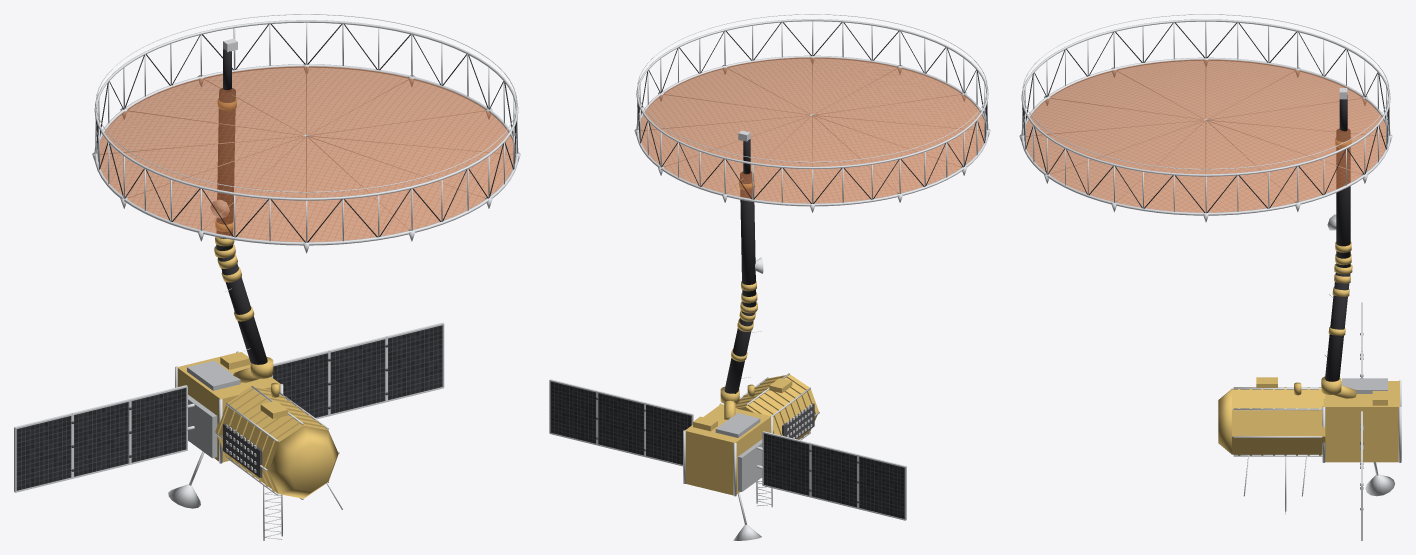
File: nisar.glb
3 views of the same model, side by side, from view 1: azimuth 30°, elevation 25°; view 2: azimuth 150°, elevation 25°; view 3: azimuth 270°, elevation 25° (orthographic). The views are drawn at different scales.
Parts seen in each view (by area): view 1: NISAR_Reflector, NISAR_Body, NISAR_SolarArray_L, NISAR_SolarArray_R, NISAR_Boom; view 2: NISAR_Reflector, NISAR_Body, NISAR_SolarArray_L, NISAR_SolarArray_R, NISAR_Boom; view 3: NISAR_Reflector, NISAR_Body, NISAR_Boom.
Part boxes in pixels (x1,y1,x2,y2): NISAR_Reflector: (92,14,520,253); NISAR_Body: (168,351,342,540); NISAR_SolarArray_L: (14,385,194,492); NISAR_SolarArray_R: (271,322,444,419); NISAR_Boom: (210,38,267,364); NISAR_Reflector: (634,14,990,212); NISAR_Body: (683,373,819,540); NISAR_SolarArray_L: (756,431,906,520); NISAR_SolarArray_R: (549,379,693,466); NISAR_Boom: (724,130,763,393); NISAR_Reflector: (1019,14,1392,222); NISAR_Body: (1218,376,1401,514); NISAR_Boom: (1325,88,1352,381).
Bounding box in the file's own units: 14.12 × 15.04 × 12.51.
Materials: 8 (2 with a texture image).
